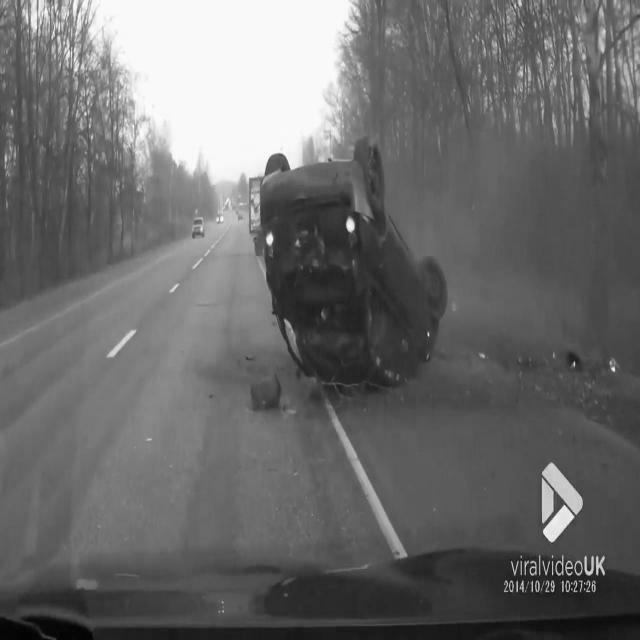accident: (248, 138, 452, 400)
vehicle: (184, 207, 210, 243)
